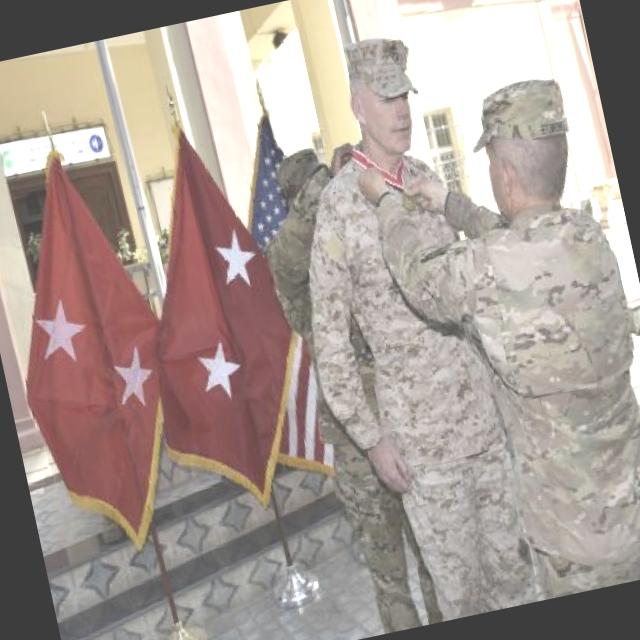Person: (251, 26, 543, 634), (344, 66, 640, 618), (244, 136, 452, 640)
